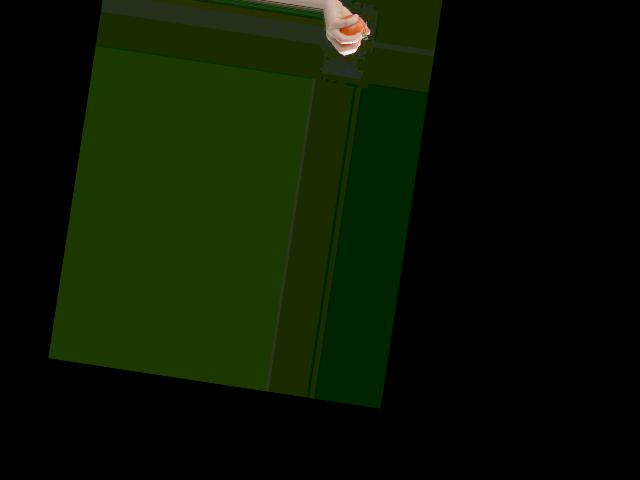tomato: (337, 12, 365, 41)
